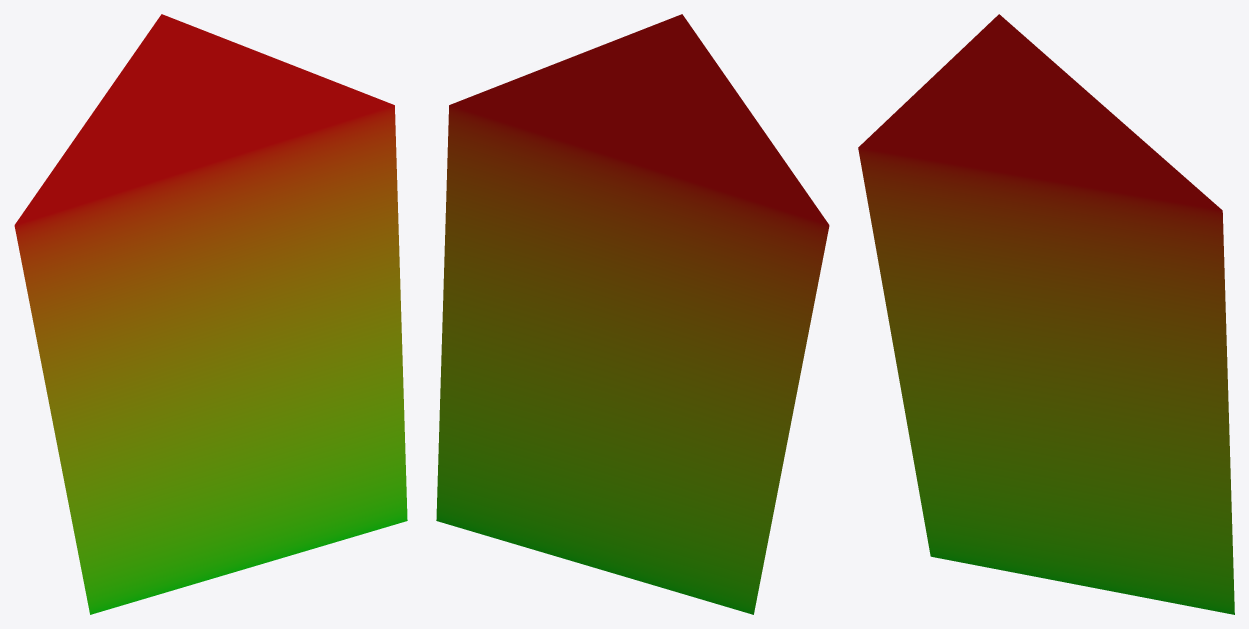
The model's file is Var1_LOD4.fbx.
3 views of the same model, side by side, from view 1: azimuth 30°, elevation 25°; view 2: azimuth 150°, elevation 25°; view 3: azimuth 330°, elevation 25° (orthographic). The views are drawn at different scales.
Parts seen in each view (by area): view 1: _1815_Var1_LOD4; view 2: _1815_Var1_LOD4; view 3: _1815_Var1_LOD4.
Boxes of the visible parts, box(x1,y1,x2,y2) form: _1815_Var1_LOD4: box(14, 14, 407, 614); _1815_Var1_LOD4: box(436, 14, 829, 614); _1815_Var1_LOD4: box(858, 14, 1234, 614).
Bounding box in the file's own units: 43.59 × 61.84 × 3.46e-06.
